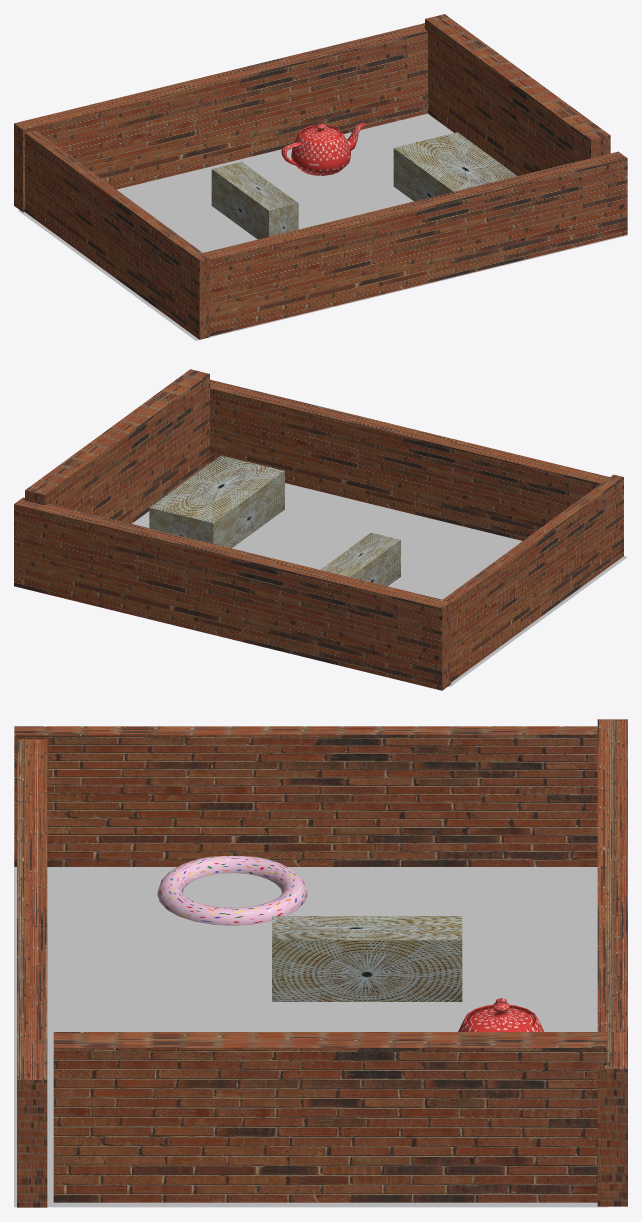
Rendered from stage.fbx.
The picture shows the model from 3 angles, top to bottom: view 1: azimuth 30°, elevation 25°; view 2: azimuth 150°, elevation 25°; view 3: azimuth 270°, elevation 25°; orthographic projection. The views are drawn at different scales.
Parts seen in each view (by area): view 1: Box004, Box005, Box003, Plane001, Box006, Box002, Box001, Teapot001; view 2: Box005, Box004, Box003, Plane001, Box006, Box002, Box001; view 3: Box006, Box003, Plane001, Box001, Box005, Box004, Torus001, Teapot001.
Boxes of the visible parts, box(x1,y1,x2,y2) form: Box004: box(203, 151, 627, 336); Box005: box(14, 23, 427, 212); Box003: box(25, 130, 209, 339); Plane001: box(18, 113, 627, 340); Box006: box(425, 14, 610, 175); Box002: box(393, 132, 517, 201); Box001: box(211, 161, 298, 239); Teapot001: box(281, 123, 365, 175); Box005: box(14, 497, 451, 690); Box004: box(210, 379, 609, 540); Box003: box(443, 474, 623, 681); Plane001: box(132, 483, 627, 686); Box006: box(25, 369, 209, 523); Box002: box(149, 455, 284, 548); Box001: box(320, 532, 400, 586); Box006: box(53, 1032, 606, 1202); Box003: box(14, 726, 597, 866); Plane001: box(14, 855, 607, 1207); Box001: box(272, 916, 462, 1001); Box005: box(597, 719, 627, 1206); Box004: box(17, 739, 47, 1207); Torus001: box(157, 855, 307, 925); Teapot001: box(458, 998, 544, 1031).
Size of the model in its own units: 2577 by 1897 by 567.
